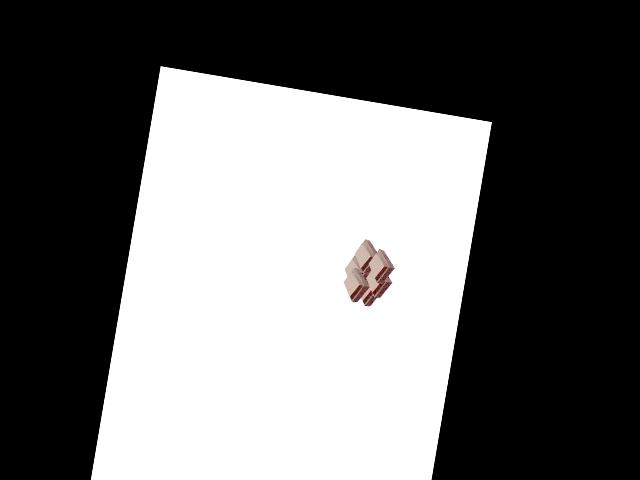chocolate: (337, 237, 396, 311)
